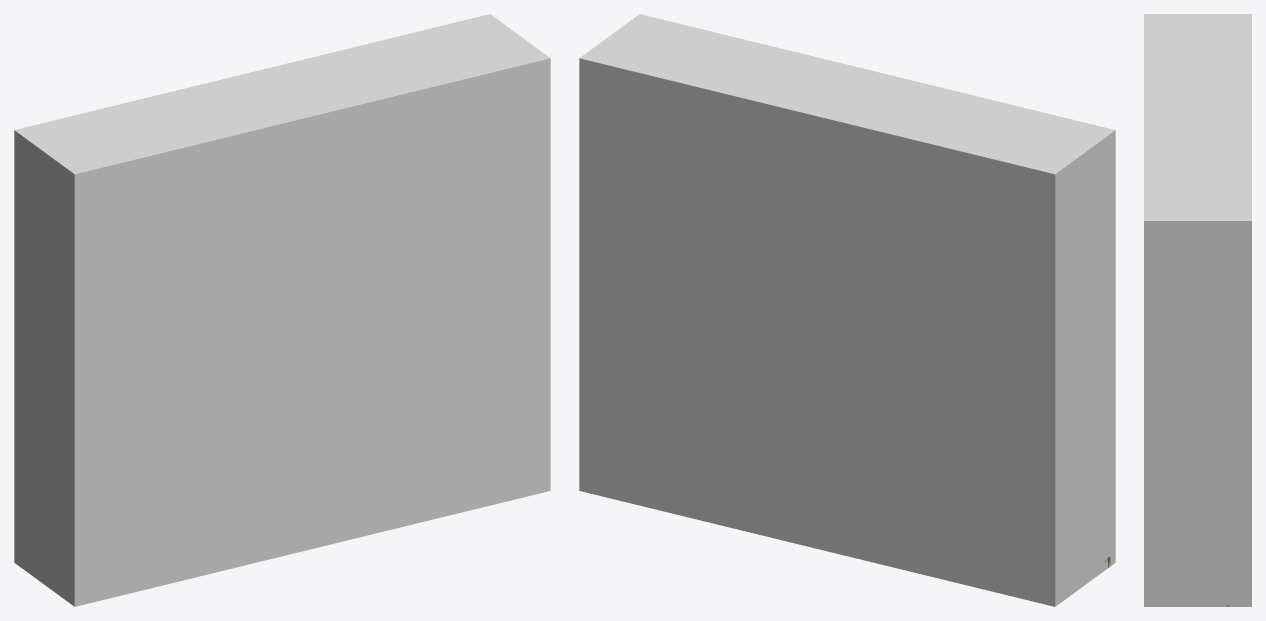
Rendered from UpLu_Green_Wall_with_Sign.gltf.
3 renders of one model, left to right at view 1: azimuth 30°, elevation 25°; view 2: azimuth 150°, elevation 25°; view 3: azimuth 270°, elevation 25°, orthographic. The views are drawn at different scales.
Parts seen in each view (by area): view 1: UpLu_Green_Wall_with_Sign_bcol; view 2: UpLu_Green_Wall_with_Sign_bcol; view 3: UpLu_Green_Wall_with_Sign_bcol.
Part boxes in pixels (x1,y1,x2,y2): UpLu_Green_Wall_with_Sign_bcol: (14,14,550,606); UpLu_Green_Wall_with_Sign_bcol: (579,14,1115,606); UpLu_Green_Wall_with_Sign_bcol: (1144,14,1251,606).
Bounding box in the file's own units: 4.14 × 3.6 × 0.9121.
Materials: 5 (2 with a texture image).
